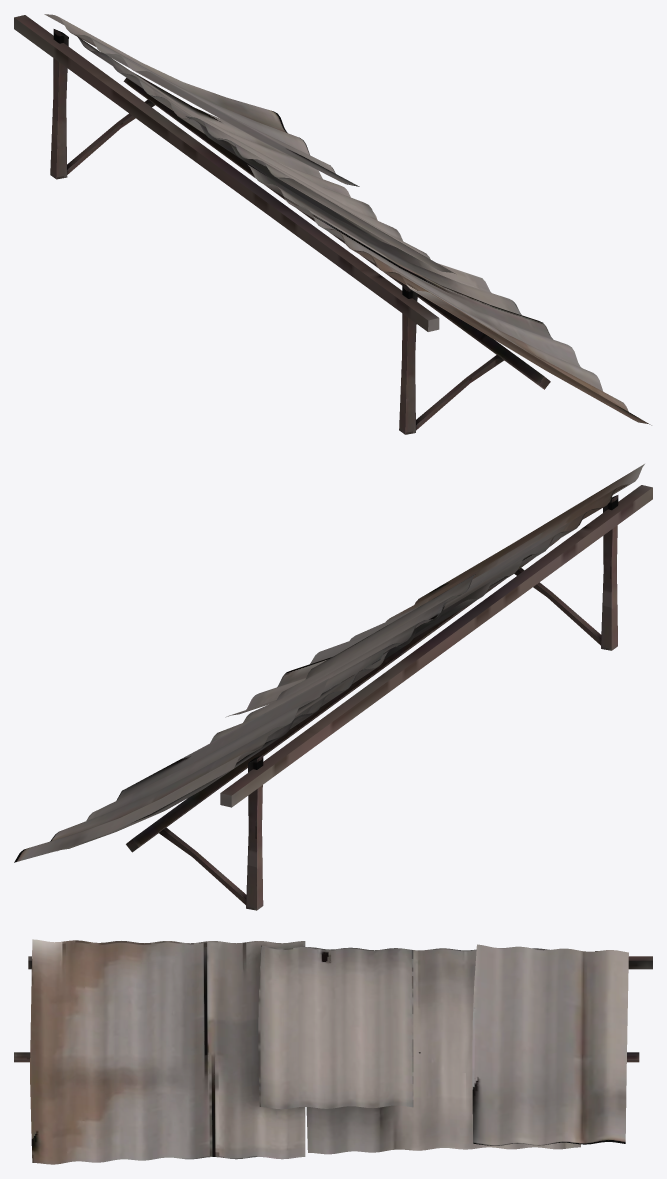
3 renders of one model, top to bottom at view 1: azimuth 30°, elevation 25°; view 2: azimuth 150°, elevation 25°; view 3: azimuth 270°, elevation 25°, orthographic. The views are drawn at different scales.
Parts seen in each view (by area): view 1: body0_model0_lod0_mesh0; view 2: body0_model0_lod0_mesh0; view 3: body0_model0_lod0_mesh0.
Part boxes in pixels (x1,y1,x2,y2): body0_model0_lod0_mesh0: (14,14,651,434); body0_model0_lod0_mesh0: (14,464,652,910); body0_model0_lod0_mesh0: (14,939,652,1164).
Bounding box in the file's own units: 55.48 × 42.63 × 170.
1 material, 1 textured.
